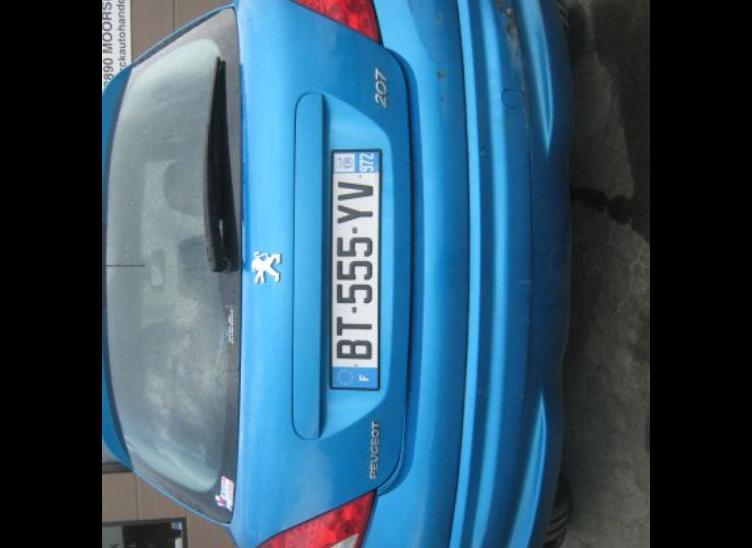Paint chip: (436, 65, 451, 78), (439, 93, 447, 103)
Scratch: (495, 0, 527, 126)
